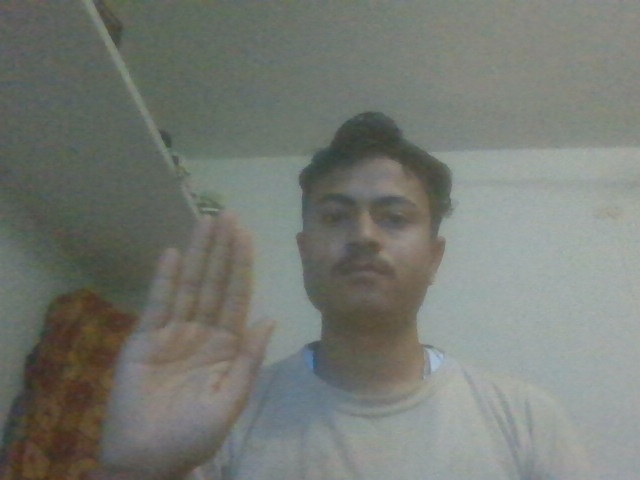Hello: (84, 191, 293, 476)
